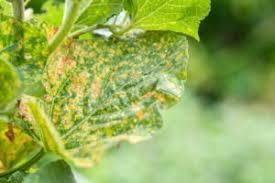Bok-Choy-Diseased: (35, 30, 172, 139)
